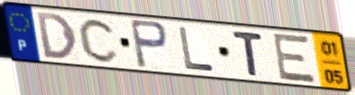C: (77, 16, 121, 64)
D: (34, 10, 79, 61)
E: (272, 31, 319, 85)
L: (176, 25, 217, 73)
P: (128, 17, 171, 70)
T: (230, 29, 266, 79)
